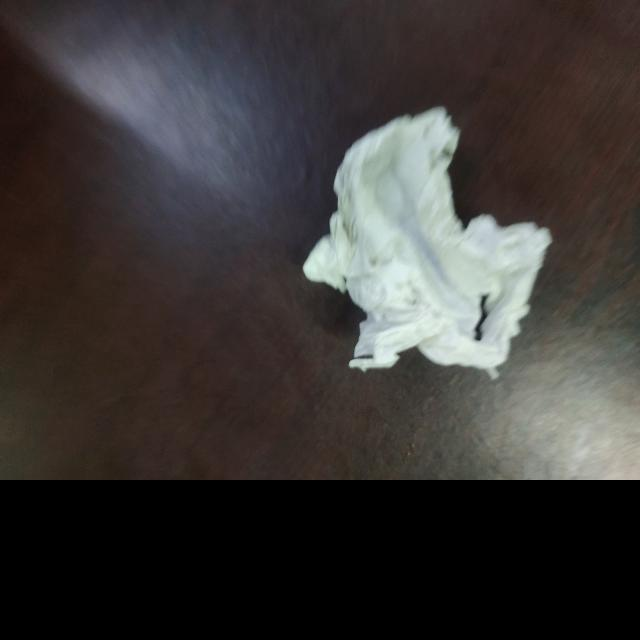kitchen paper: (299, 105, 557, 388)
